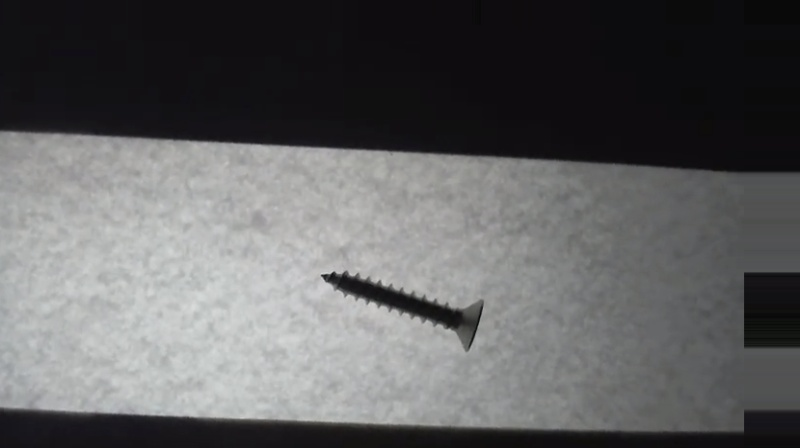S001: (315, 268, 488, 351)
